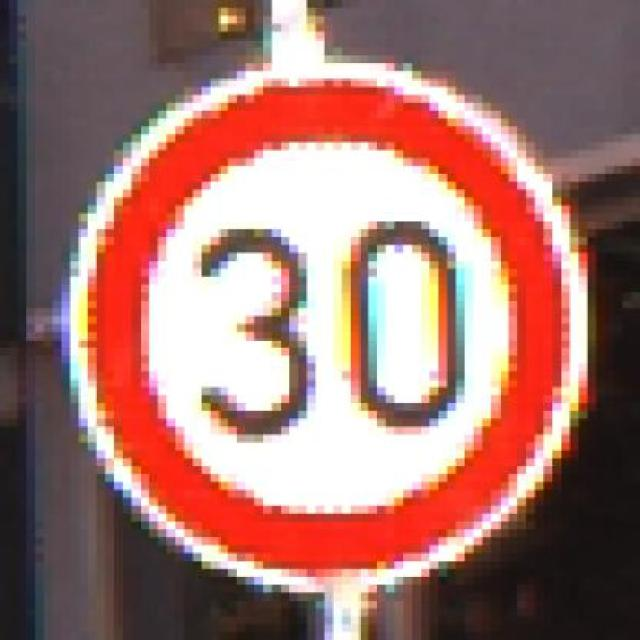Speed Limit 30 KMPh: (26, 47, 623, 601)
